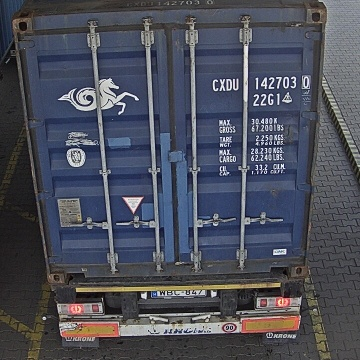serial_id: (212, 75, 310, 90)
